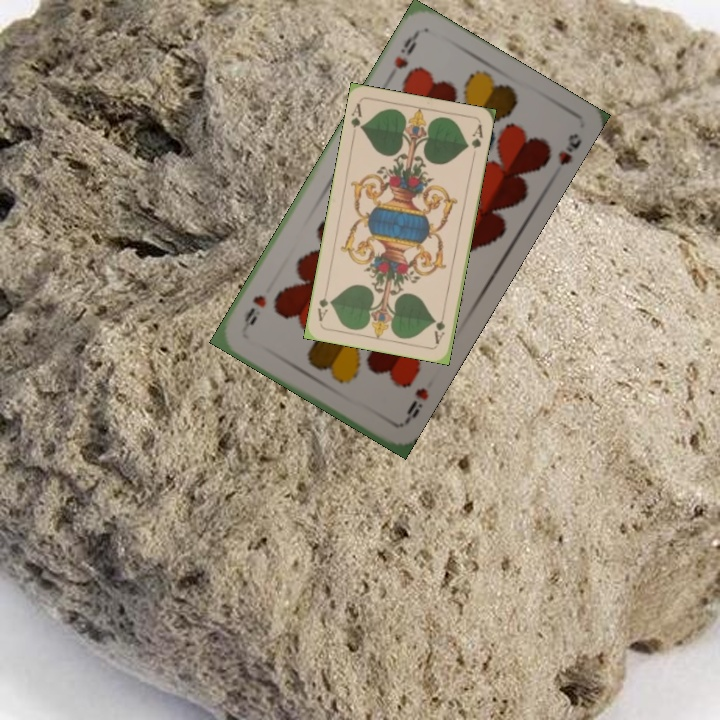GA: (430, 306, 448, 347), (346, 99, 366, 132)
H9: (396, 383, 431, 428), (390, 28, 421, 72)
